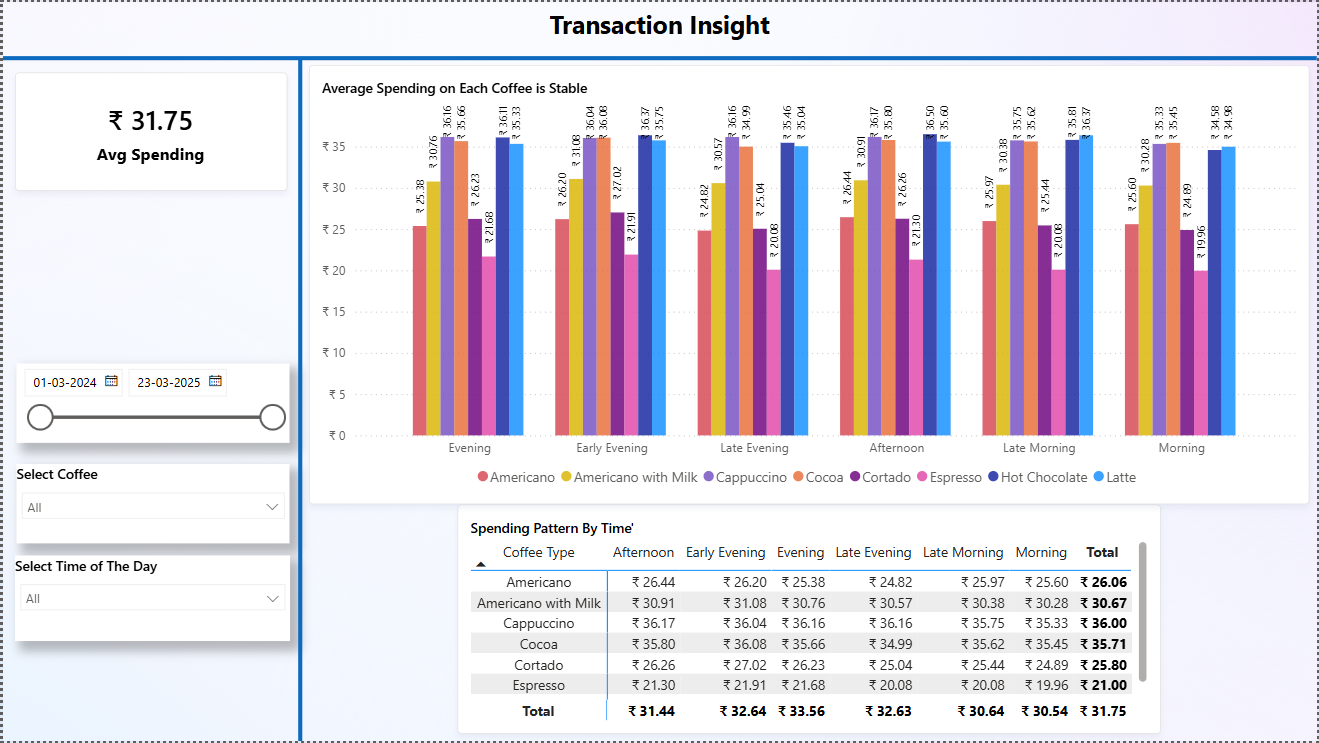

This screenshot's page, from the dashboard's own definition file:
{"tool":"powerbi","page":{"name":"Transaction Insight","canvas":[1280,720],"ordinal":3},"visuals":[{"type":"slicer","fields":{"Values":["Coffee_Sales_Dataset.Date"]},"box":[13,352,266,77],"z":0},{"type":"slicer","title":"Select Coffee","fields":{"Values":["Coffee_Sales_Dataset.Coffee_Name"]},"box":[13,450,266,77],"z":1000},{"type":"slicer","title":"Select Time of The Day","fields":{"Values":["Coffee_Sales_Dataset.Time of The Day"]},"box":[12,539,268,83],"z":2000},{"type":"textbox","box":[335,0,610,47],"z":3000},{"type":"shape","box":[0,48,1280,13],"z":4000},{"type":"shape","box":[280,55,18,665],"z":5000},{"type":"card","title":"Total Orders","fields":{"Values":["Coffee_Sales_Dataset.Avg Cost"]},"box":[11,68,265,115],"z":6000},{"type":"pivotTable","title":"Spending Pattern By Time''","fields":{"Columns":["Coffee_Sales_Dataset.Time of The Day"],"Values":["Coffee_Sales_Dataset.Avg Cost"],"Rows":["Coffee_Sales_Dataset.Coffee_Name"]},"box":[442.8,489.6,685.4,223.6],"z":7000},{"type":"clusteredColumnChart","title":"Average Spending on Each Coffee is Stable","fields":{"Category":["Coffee_Sales_Dataset.Time of The Day"],"Y":["Coffee_Sales_Dataset.Avg Cost"],"Series":["Coffee_Sales_Dataset.Coffee Type"]},"box":[298.1,61.4,974.8,428.2],"z":8000}]}

Visuals, with their boxes in screenshot pixels (x1, y1, x2, y2), scaled from the page's 1280x720 canvas onto the 1319x743 screenshot:
slicer - Coffee_Sales_Dataset.Date: [x1=13, y1=363, x2=288, y2=443]
"Select Coffee" slicer: [x1=13, y1=464, x2=288, y2=544]
"Select Time of The Day" slicer: [x1=12, y1=556, x2=289, y2=642]
textbox: [x1=345, y1=0, x2=974, y2=49]
shape: [x1=0, y1=50, x2=1318, y2=63]
shape: [x1=289, y1=57, x2=307, y2=742]
"Total Orders" card: [x1=11, y1=70, x2=284, y2=189]
"Spending Pattern By Time''" pivotTable: [x1=456, y1=505, x2=1163, y2=736]
"Average Spending on Each Coffee is Stable" clusteredColumnChart: [x1=307, y1=63, x2=1312, y2=505]
